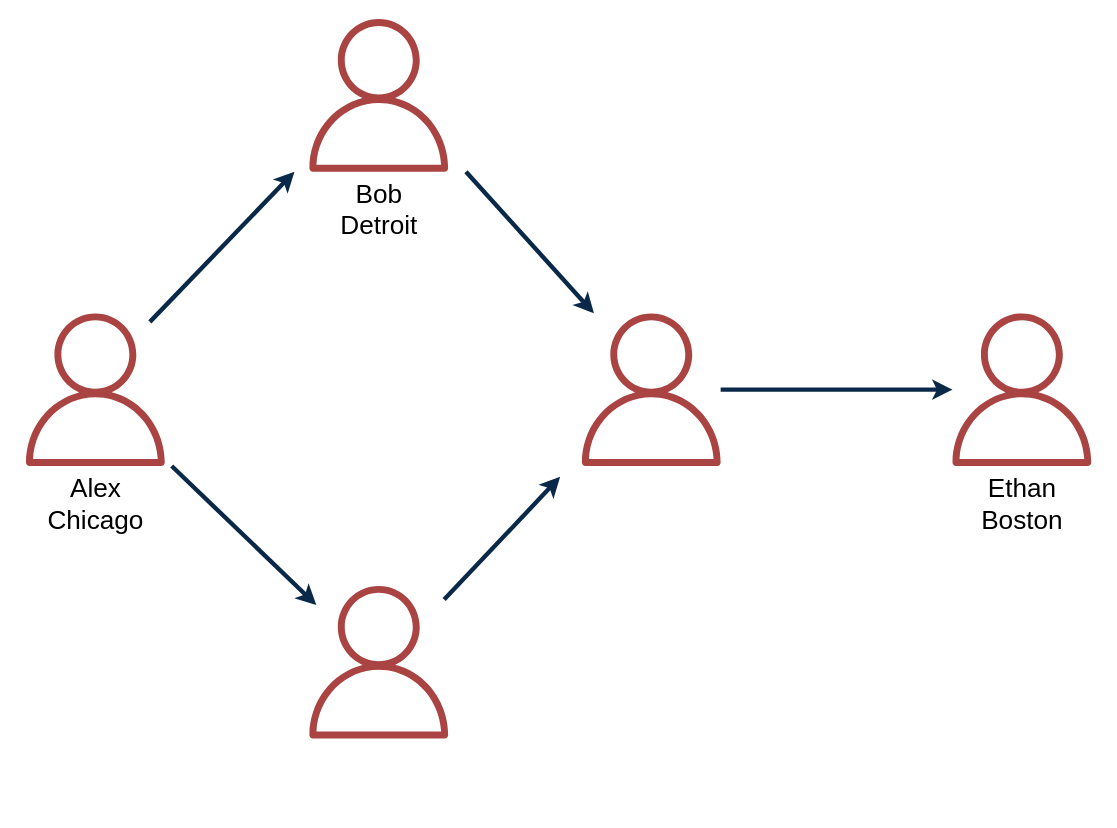
Image size: 1117x828. Some labels were removed from this diagram. Each missing label, with the box of its shape:
Carter Chicago: (301, 585, 455, 738)
David Atlanta: (574, 312, 728, 466)
